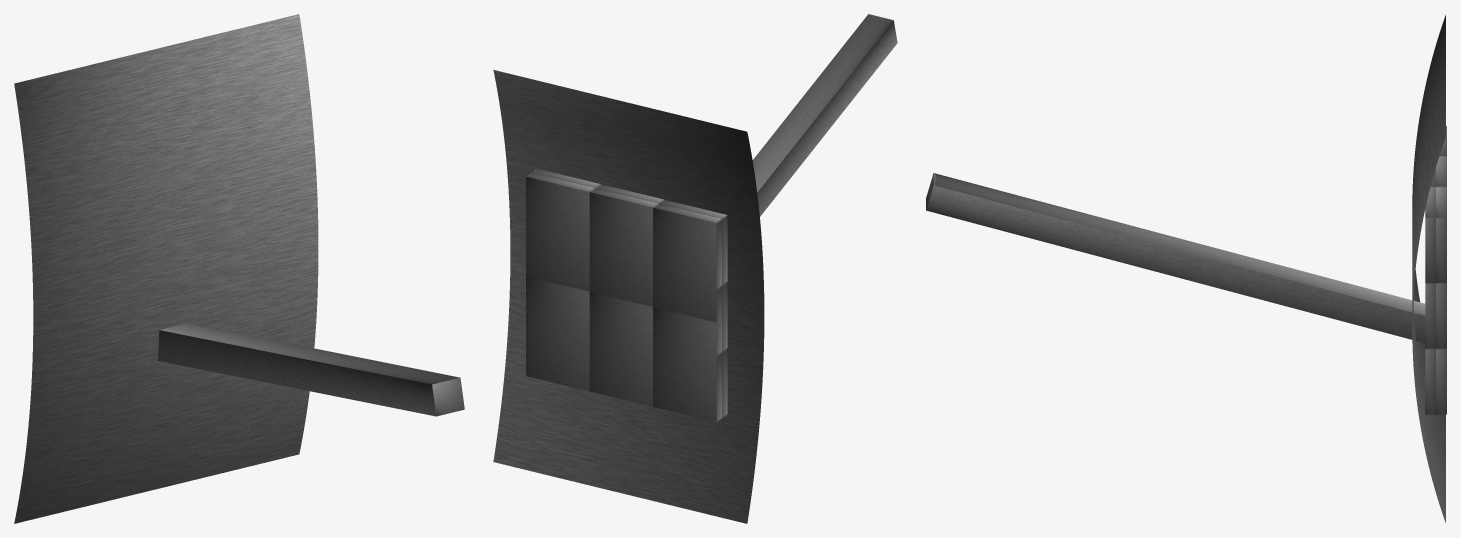
The model's file is brown_rack_stand.obj.
3 views of the same model, side by side, from view 1: azimuth 30°, elevation 25°; view 2: azimuth 150°, elevation 25°; view 3: azimuth 270°, elevation 25° (orthographic). The views are drawn at different scales.
Visible parts, largest first — view 1: WineRackBasic; view 2: WineRackBasic; view 3: WineRackBasic.
Part boxes in pixels (x1,y1,x2,y2): WineRackBasic: (14,14,464,523); WineRackBasic: (493,14,897,523); WineRackBasic: (926,15,1446,522).
Bounding box in the file's own units: 40 × 59.03 × 71.91.
